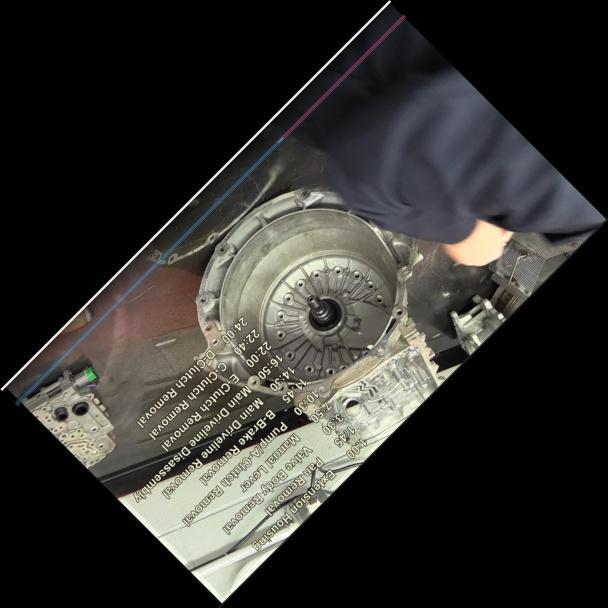hole: (392, 304, 405, 318), (201, 321, 213, 334), (215, 242, 226, 254)
